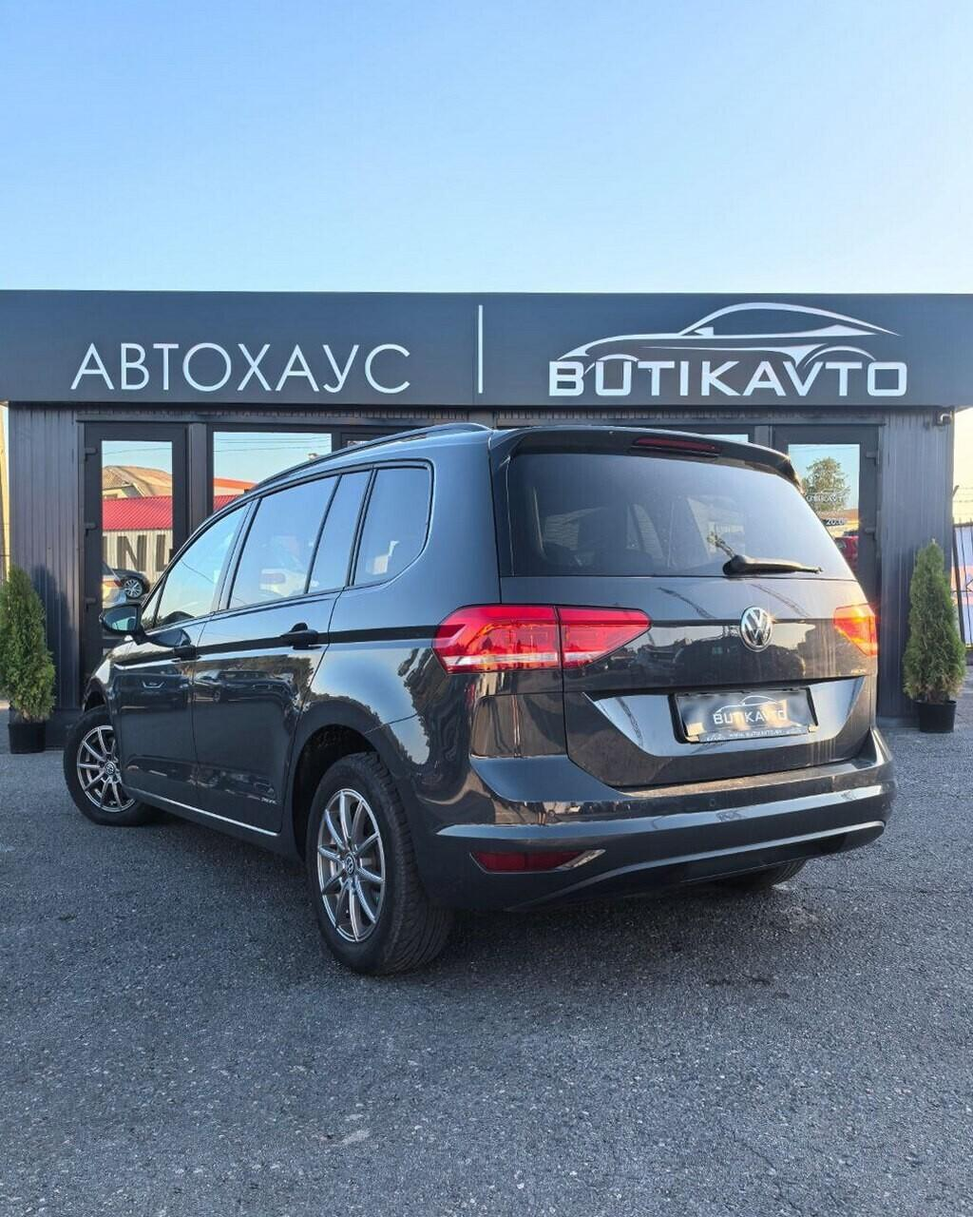Touran_2015: (67, 426, 900, 982)
